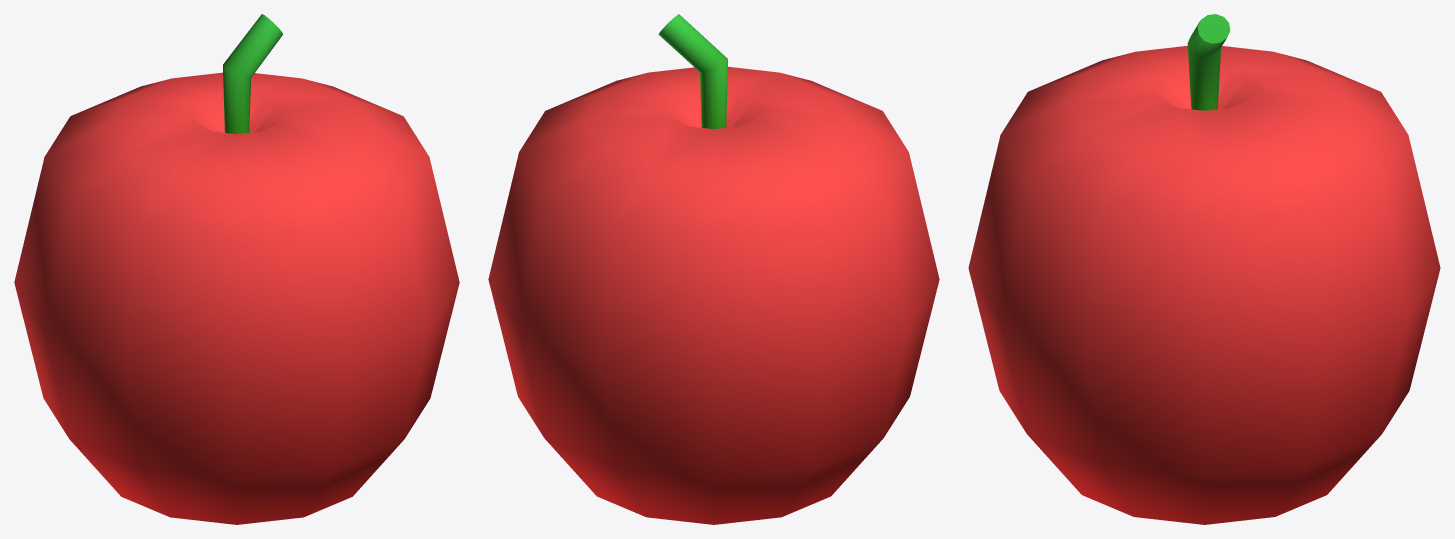
Rendered from apple.fbx.
3 renders of one model, left to right at view 1: azimuth 30°, elevation 25°; view 2: azimuth 150°, elevation 25°; view 3: azimuth 270°, elevation 25°, orthographic. The views are drawn at different scales.
Parts seen in each view (by area): view 1: apple; view 2: apple; view 3: apple.
Boxes of the visible parts, bbox=[...] form: apple: bbox=[14, 14, 459, 524]; apple: bbox=[488, 14, 939, 524]; apple: bbox=[968, 14, 1440, 524].
Bounding box in the file's own units: 70.87 × 82.73 × 70.87.
